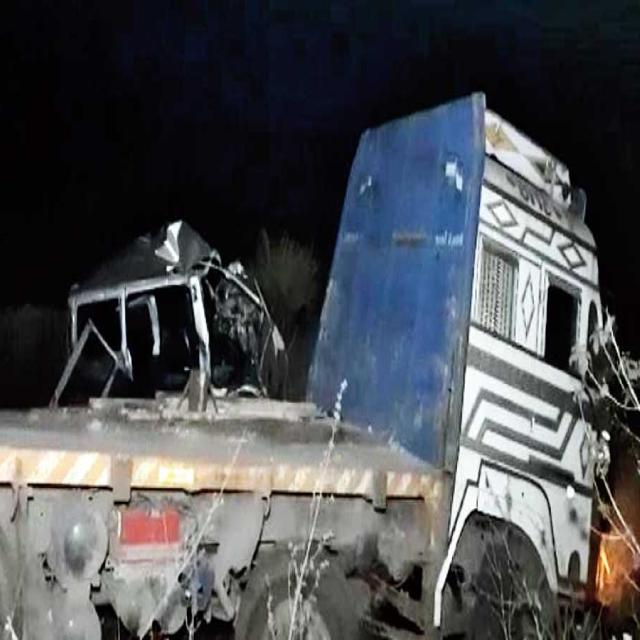accident: (0, 94, 612, 639)
